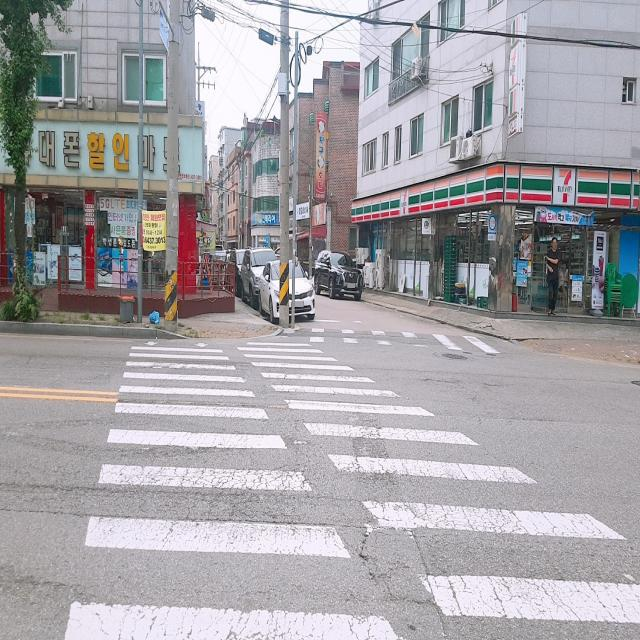횡단보도: (61, 332, 640, 640)
